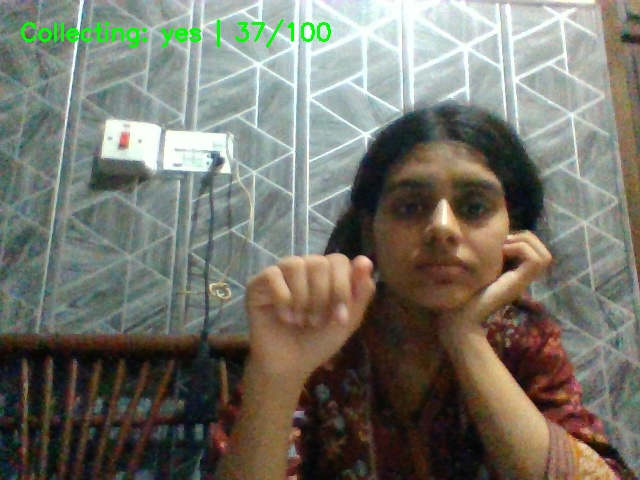yes: (233, 241, 399, 420)
